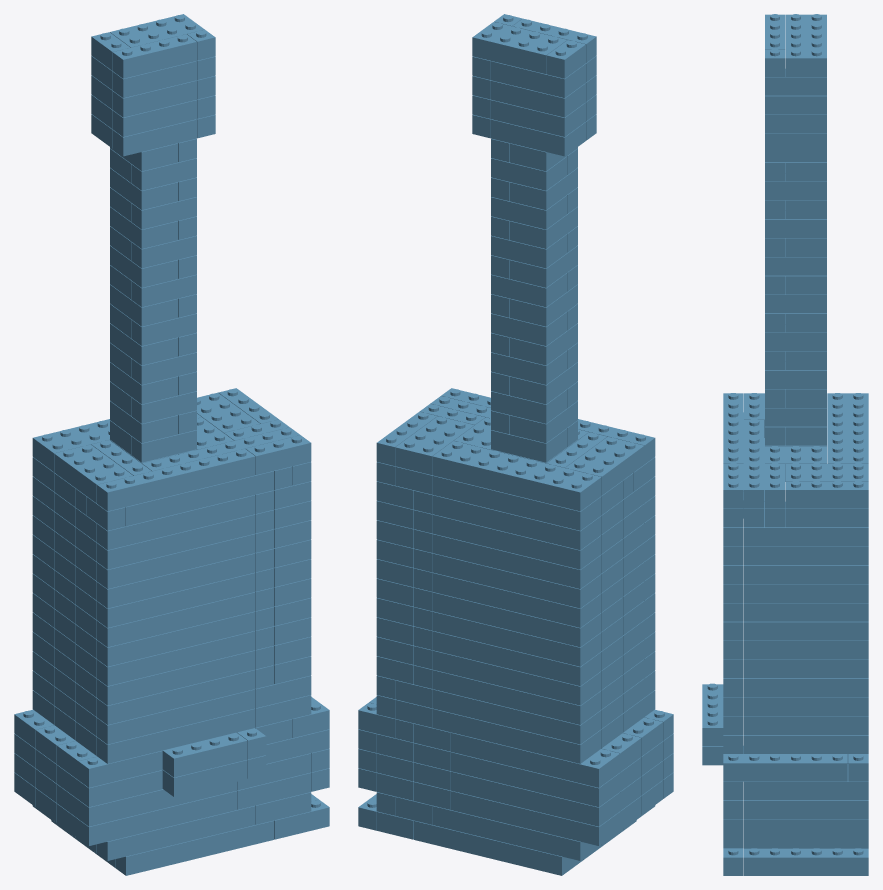
Rendered from 162_guitar_L2.glb.
The picture shows the model from 3 angles, left to right: view 1: azimuth 30°, elevation 25°; view 2: azimuth 150°, elevation 25°; view 3: azimuth 270°, elevation 25°; orthographic projection. The views are drawn at different scales.
Bounding box in the file's own units: 12.98 × 41.13 × 7.98.
